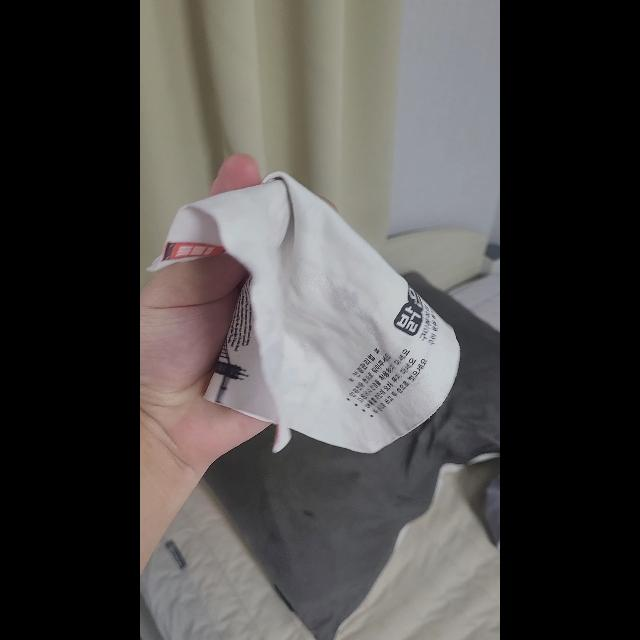Glasses cleaning cloth: (147, 172, 460, 454)
